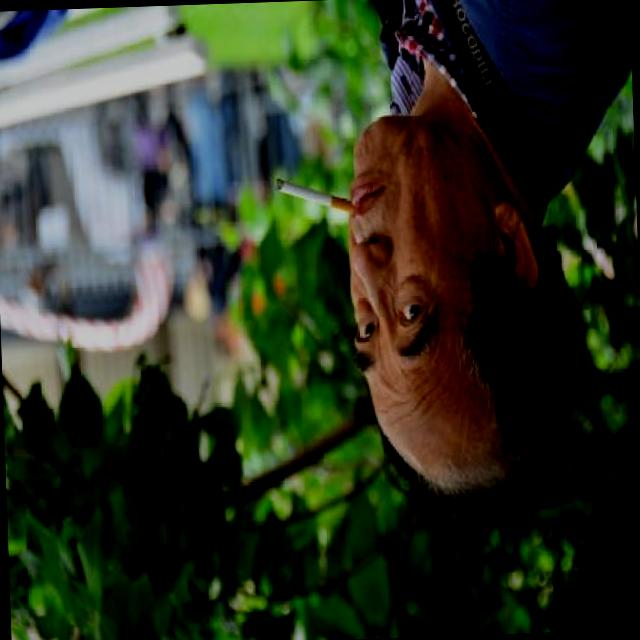cigarette: (273, 166, 360, 229)
